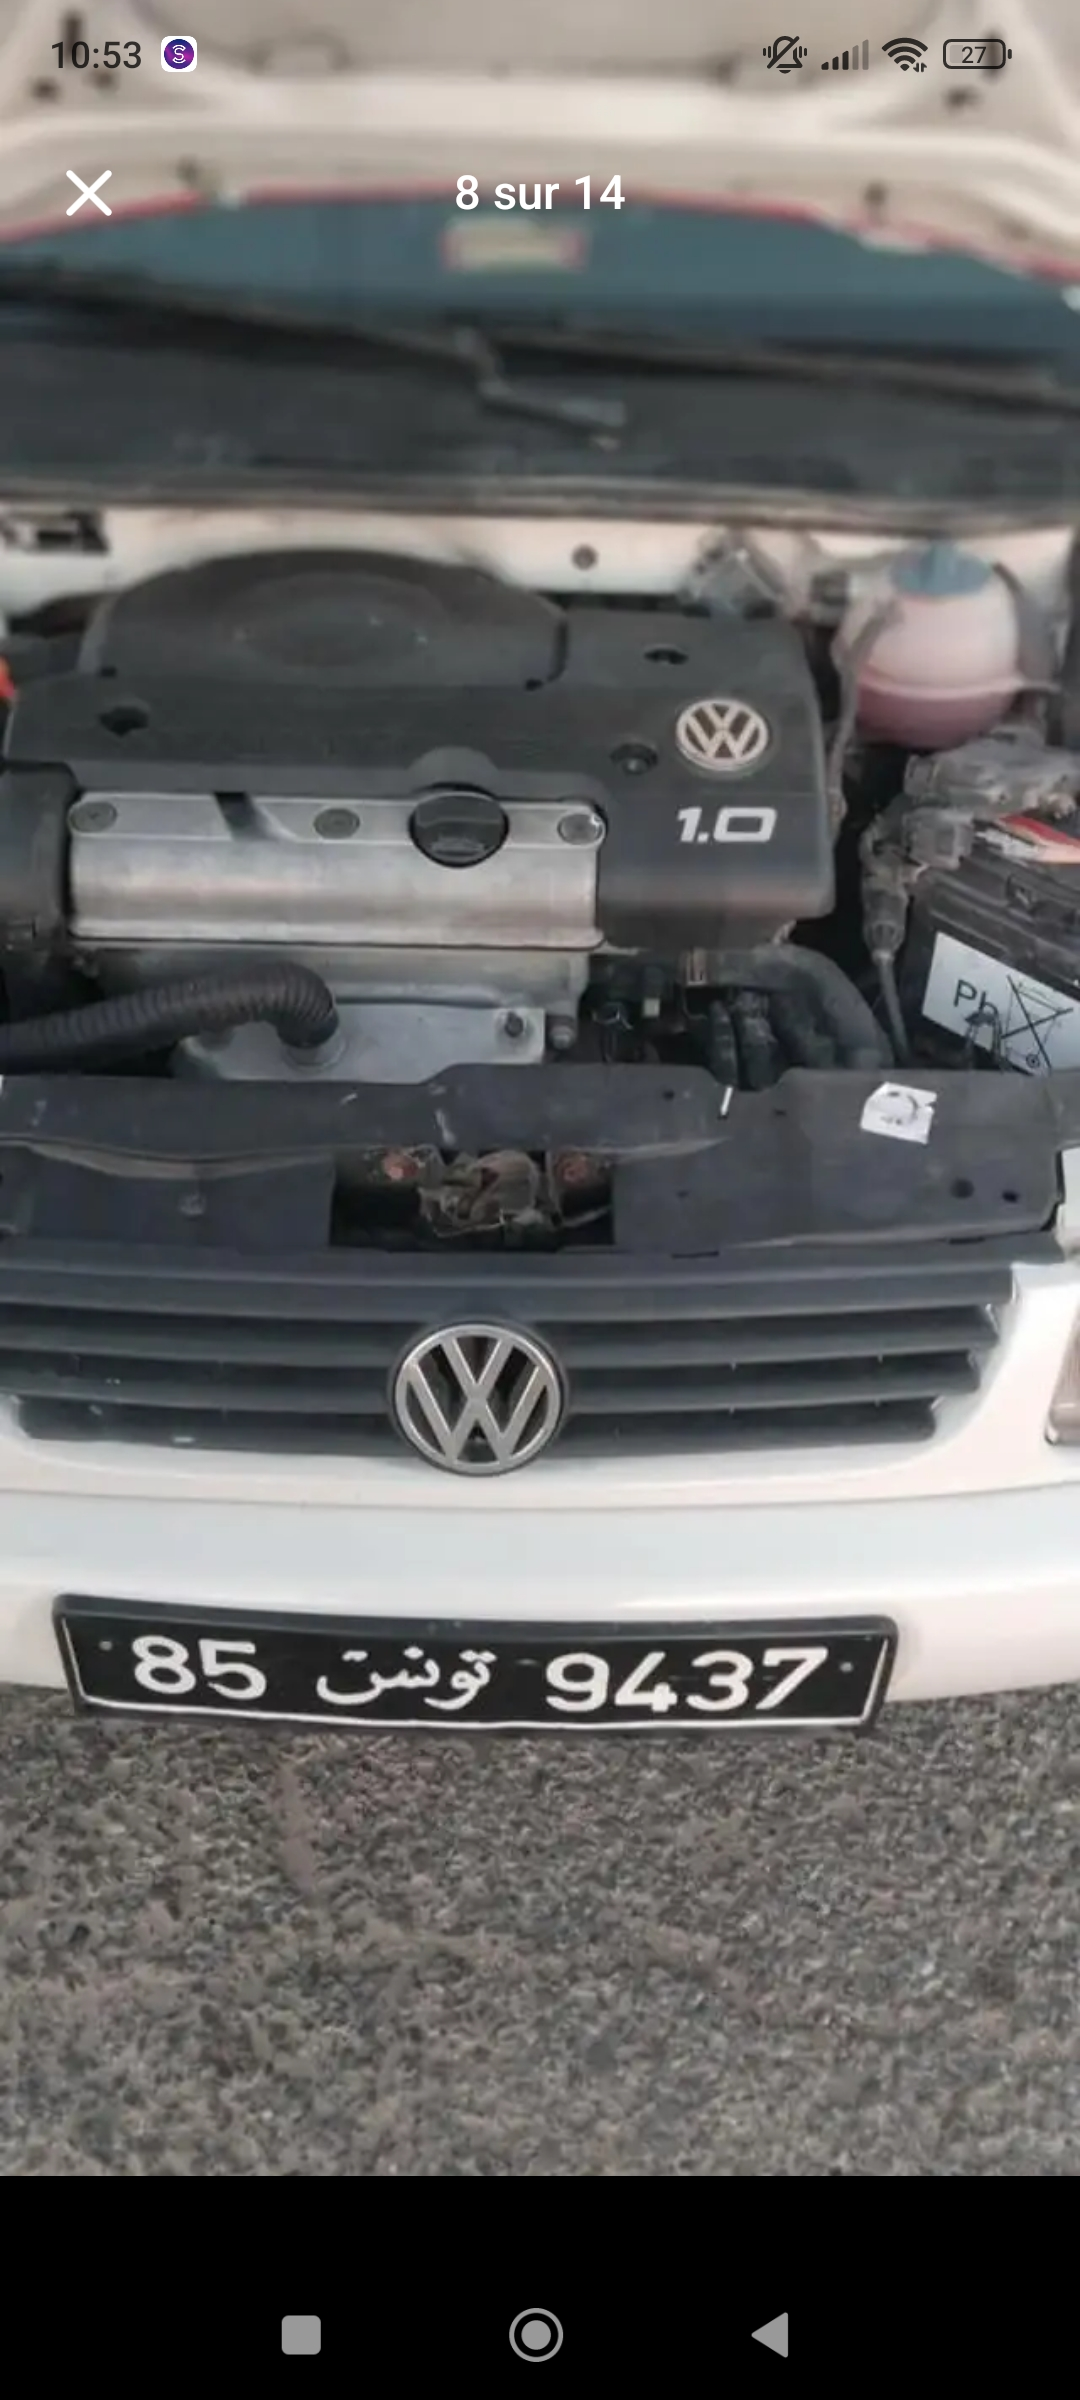volkswagen: (2, 236, 1080, 1847)
